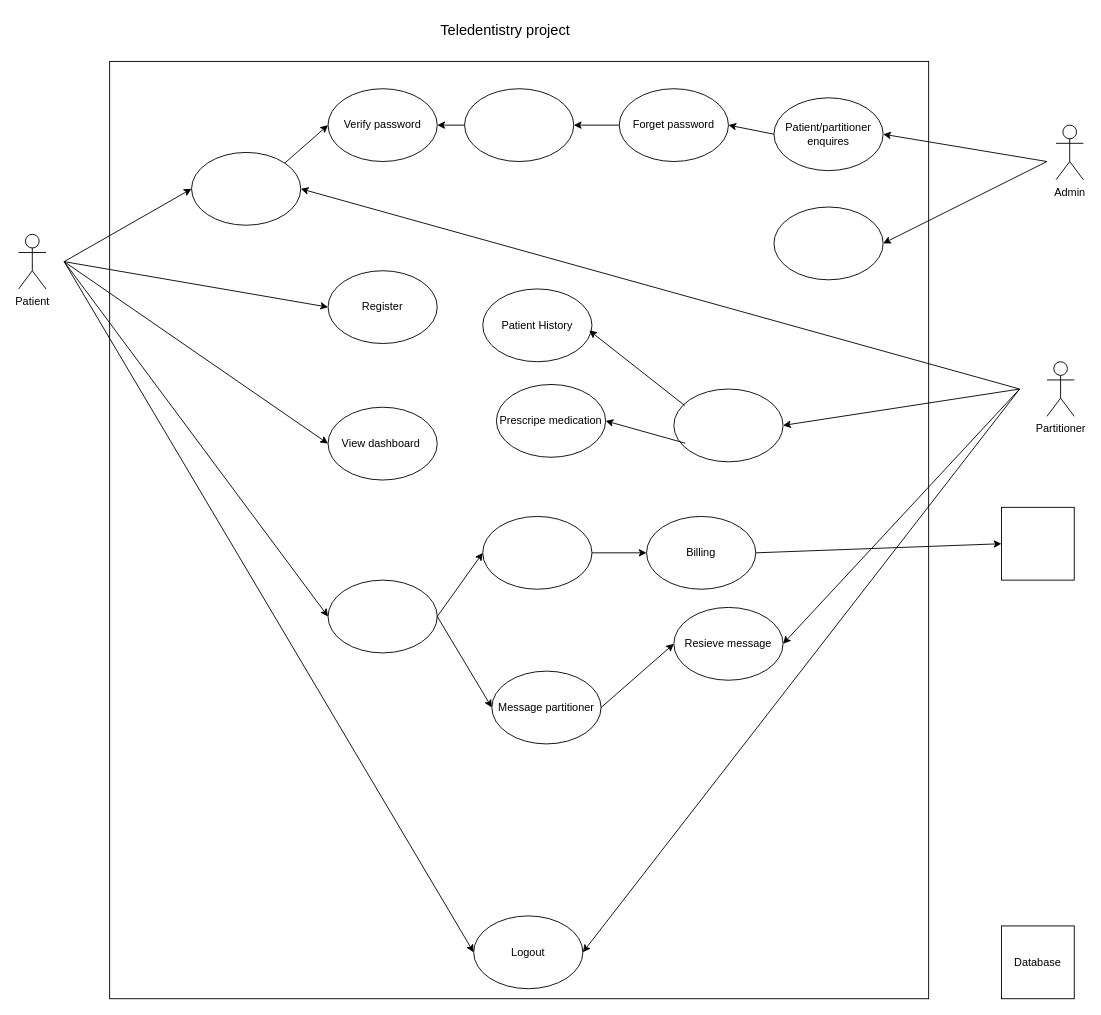
Some shapes in this 1101 by 1015 pixel diagram are drawn without their labels. The centre of each missing label's shape, as x and y in pixels:
"<<System>> Payment system" goes at point (1037, 543).
"Admin Login" goes at point (828, 243).
"Consult" goes at point (382, 616).
"Login" goes at point (246, 188).
"Patient records" goes at point (728, 425).
"Reset password" goes at point (519, 125).
"Schedule booking" goes at point (537, 552).
